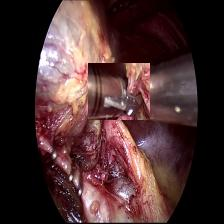Clipper: (88, 63, 150, 120)
